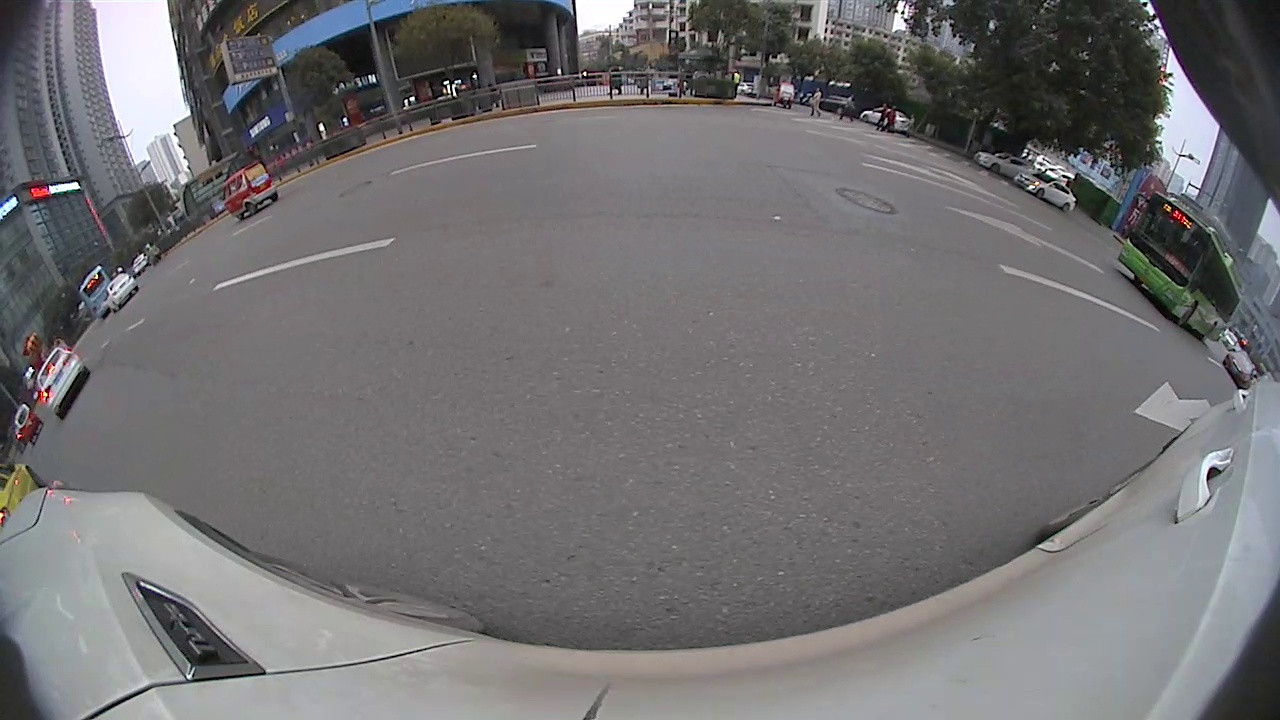bus: (1115, 190, 1239, 343), (78, 266, 123, 321)
car: (35, 347, 91, 422), (0, 461, 46, 525), (1018, 173, 1077, 213), (973, 151, 1037, 179), (1221, 347, 1258, 388), (104, 274, 140, 311)
front: (987, 159, 1003, 177), (243, 202, 260, 217), (1032, 187, 1050, 201)
rear: (1059, 201, 1076, 217)
rider: (222, 161, 280, 220)
